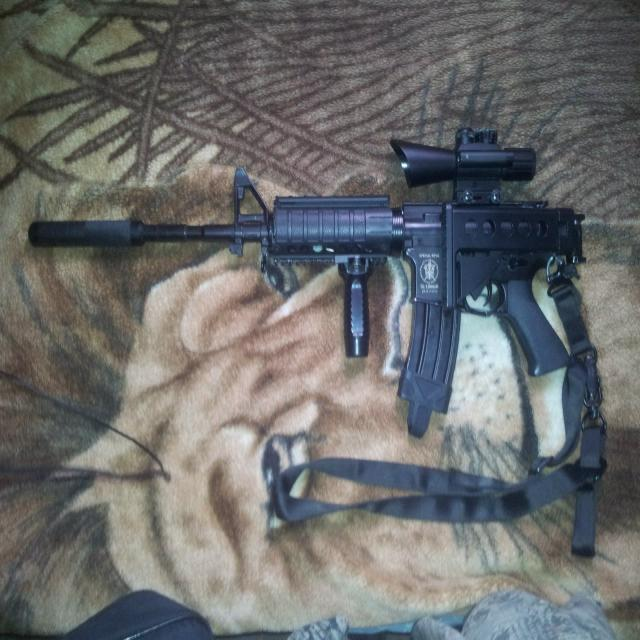firearm: (27, 124, 581, 419)
